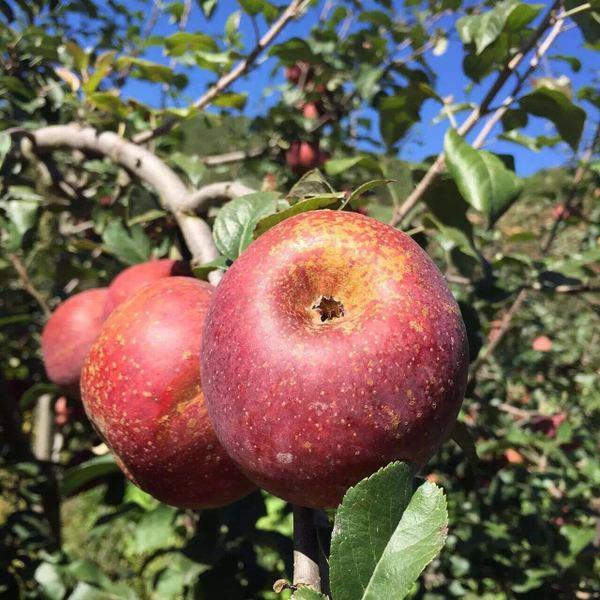apple: (191, 211, 472, 507)
